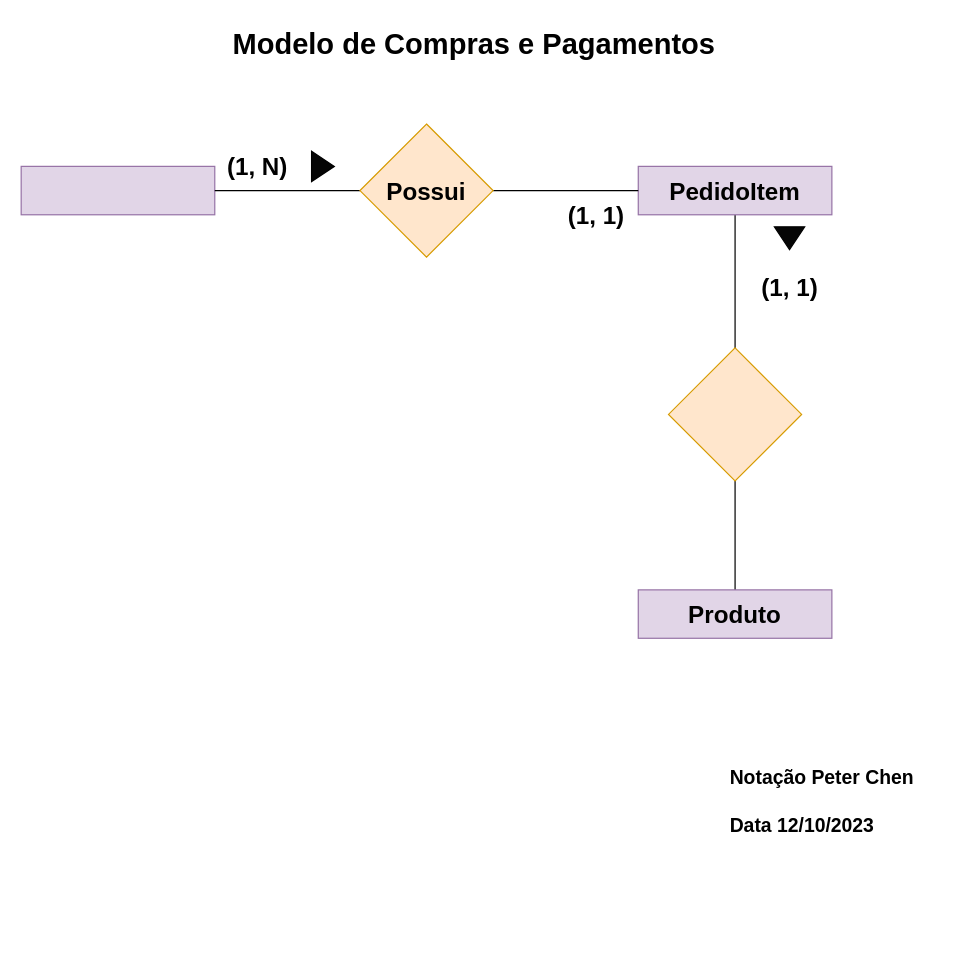
Some shapes in this 967 by 958 pixel diagram are drawn without their labels. Each missing label, with the centre of its shape:
"Copia dados" goes at point (734, 414).
"Pedido" goes at point (117, 190).
